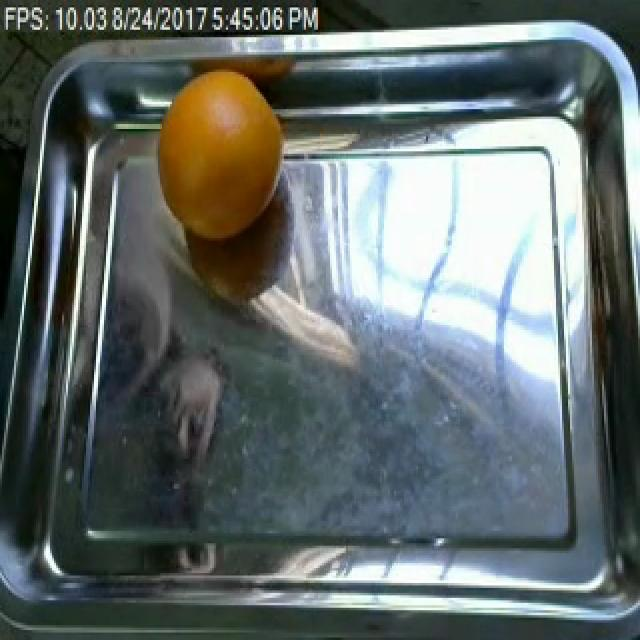Fruit: (160, 62, 290, 243)
